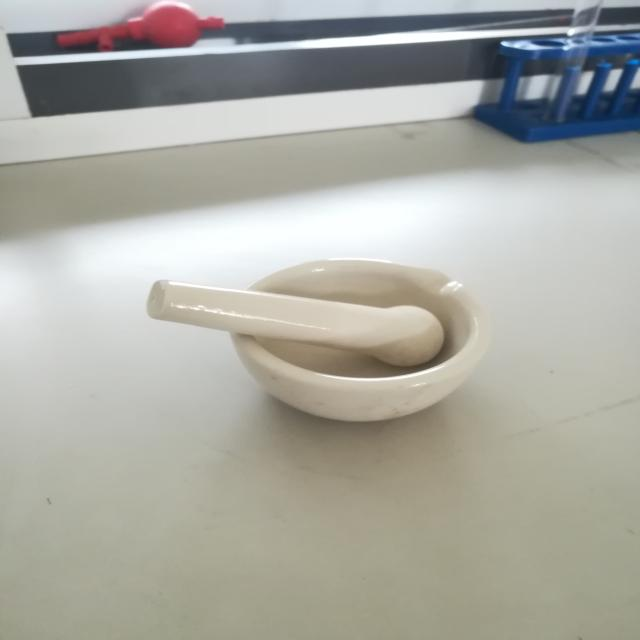Porcelain_Mortar Pestle: (112, 212, 521, 456)
